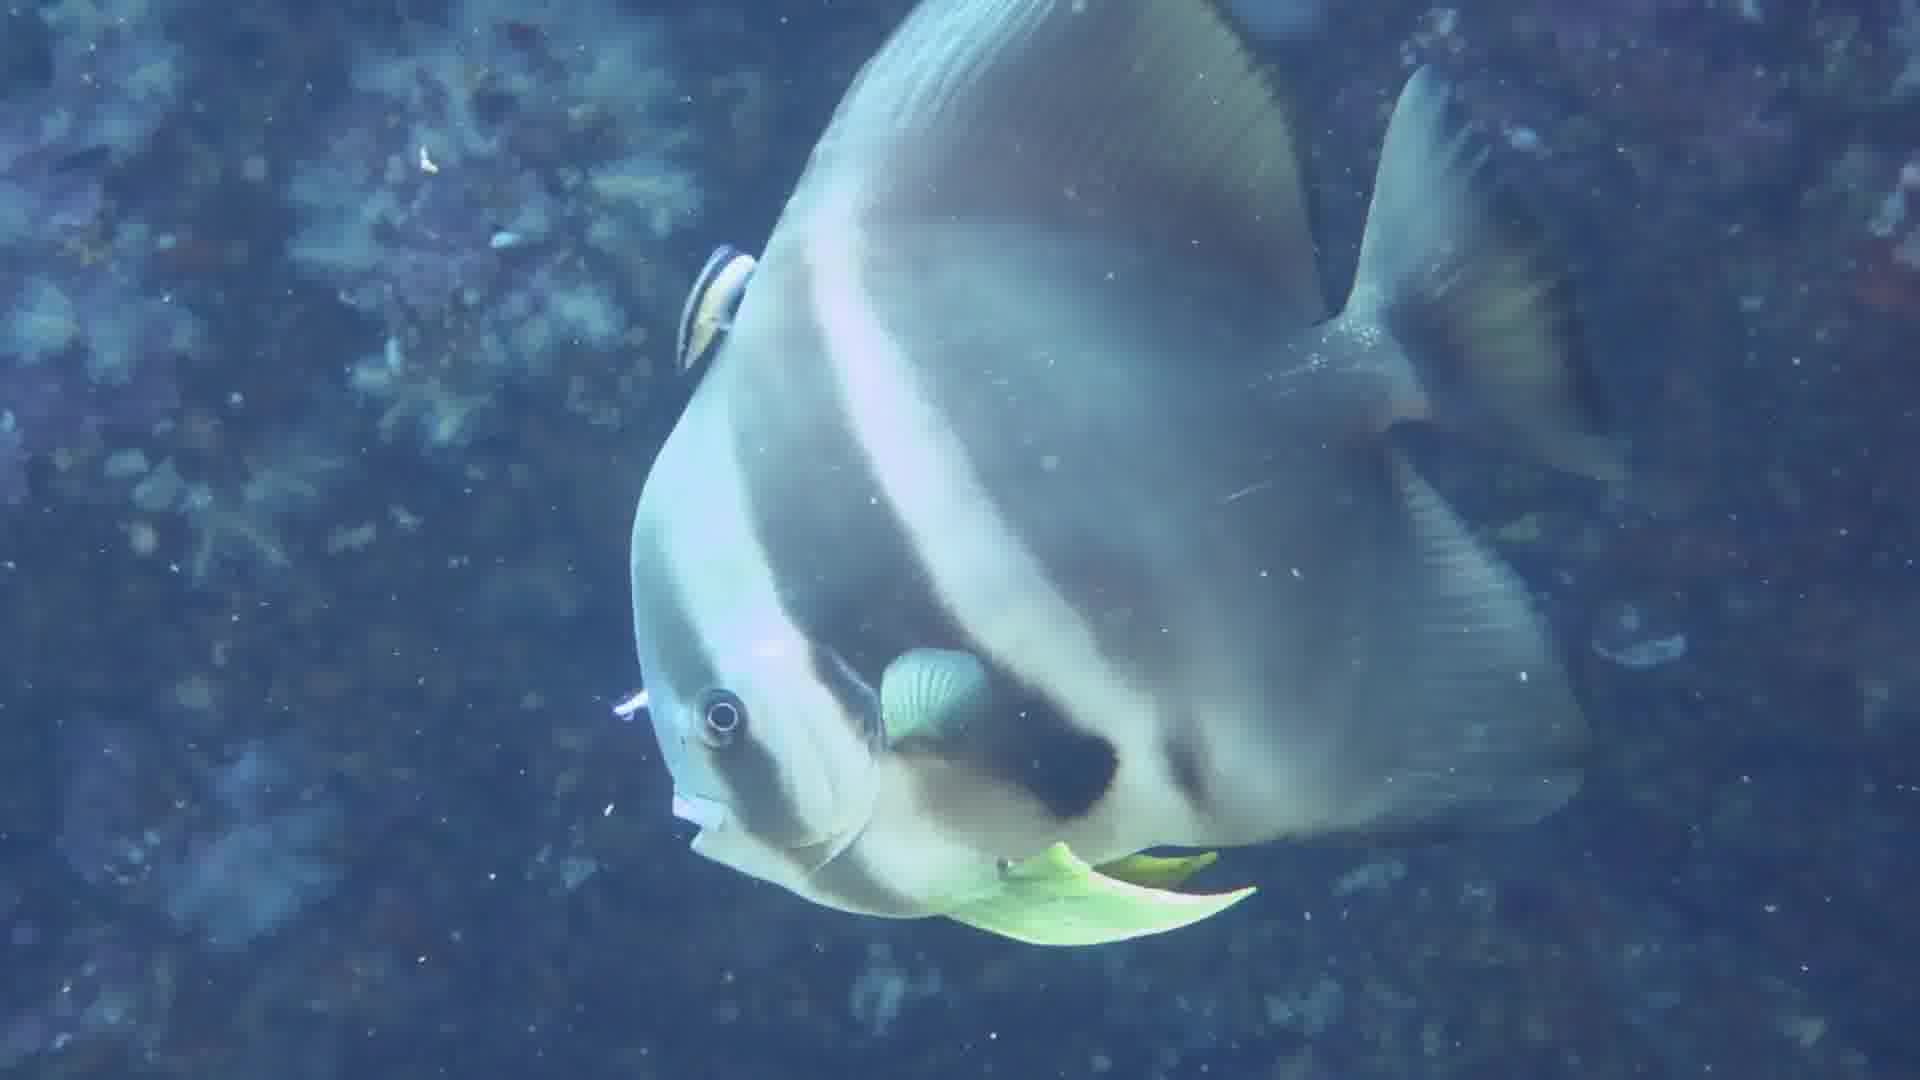Platax teira: (529, 1, 1613, 957)
